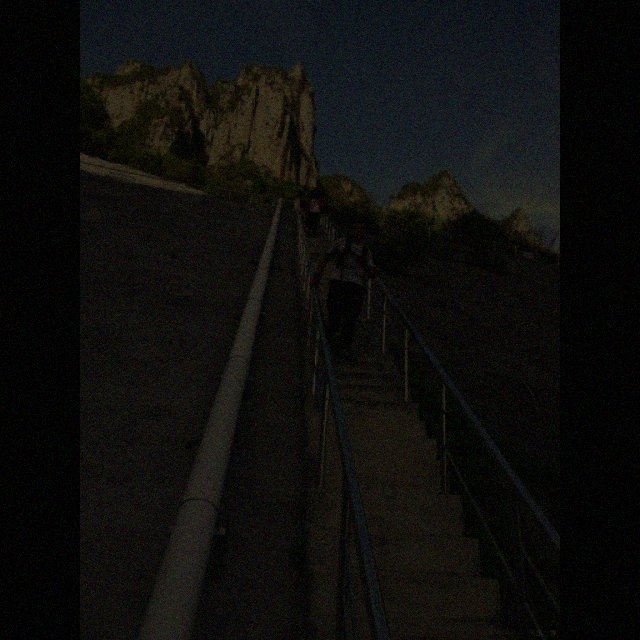stair: (296, 214, 559, 639), (419, 626, 419, 628)
